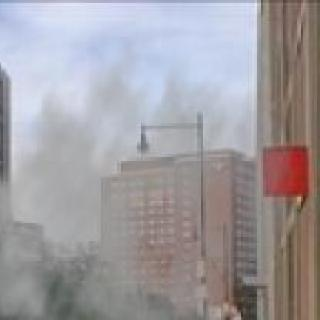smoke: (0, 127, 256, 320)
